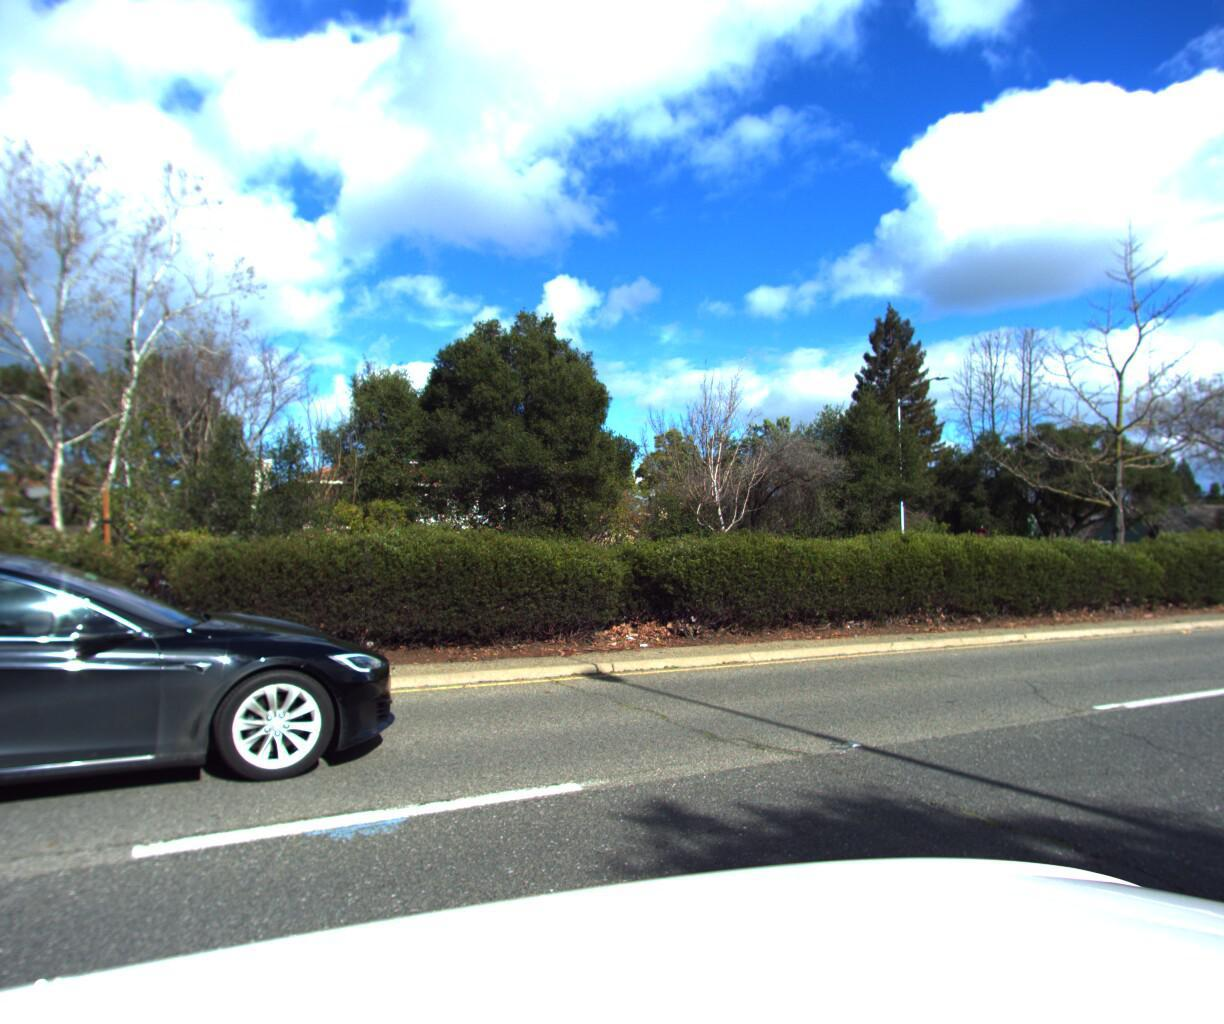car: (0, 534, 437, 947)
